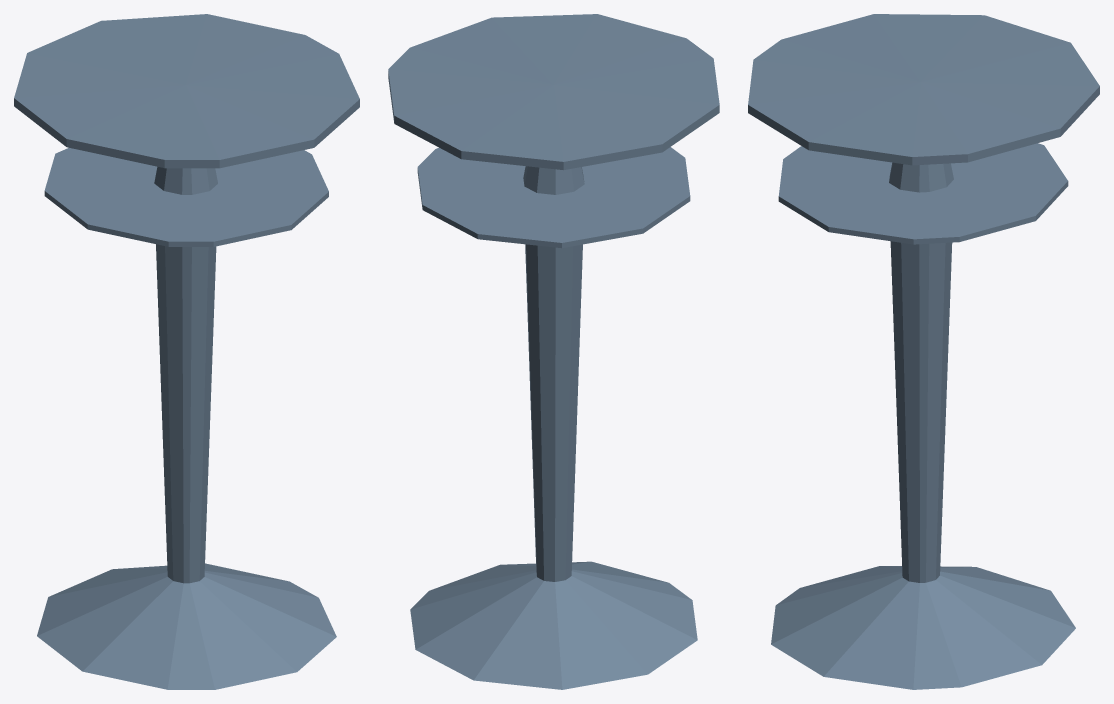
File: party_table.fbx
3 views of the same model, side by side, from view 1: azimuth 30°, elevation 25°; view 2: azimuth 150°, elevation 25°; view 3: azimuth 270°, elevation 25° (orthographic).
Visible parts, largest first — view 1: party_table; view 2: party_table; view 3: party_table.
Part boxes in pixels (box(x1,y1,x2,y2)): party_table: box(14, 14, 359, 689); party_table: box(388, 14, 719, 689); party_table: box(748, 14, 1099, 689).
Bounding box in the file's own units: 79.93 × 142 × 83.05.
